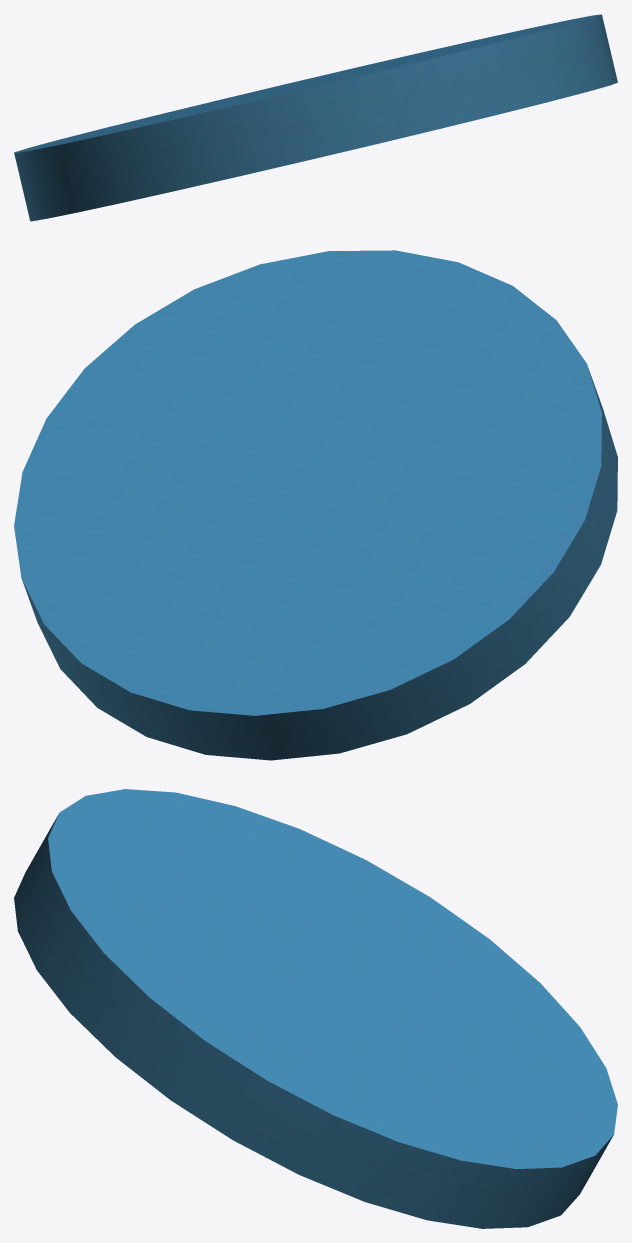
The model's file is effect_UI_yingbi_dongzuo #620611.fbx.
The picture shows the model from 3 angles, top to bottom: view 1: azimuth 30°, elevation 25°; view 2: azimuth 150°, elevation 25°; view 3: azimuth 270°, elevation 25°; orthographic projection. The views are drawn at different scales.
Visible parts, largest first — view 1: effect_UI_yingbi; view 2: effect_UI_yingbi; view 3: effect_UI_yingbi.
Part boxes in pixels (box(x1,y1,x2,y2)): effect_UI_yingbi: box(14, 14, 617, 221); effect_UI_yingbi: box(14, 250, 617, 760); effect_UI_yingbi: box(14, 789, 617, 1228).
Size of the model in its own units: 0.066 by 0.0371 by 0.0623.
